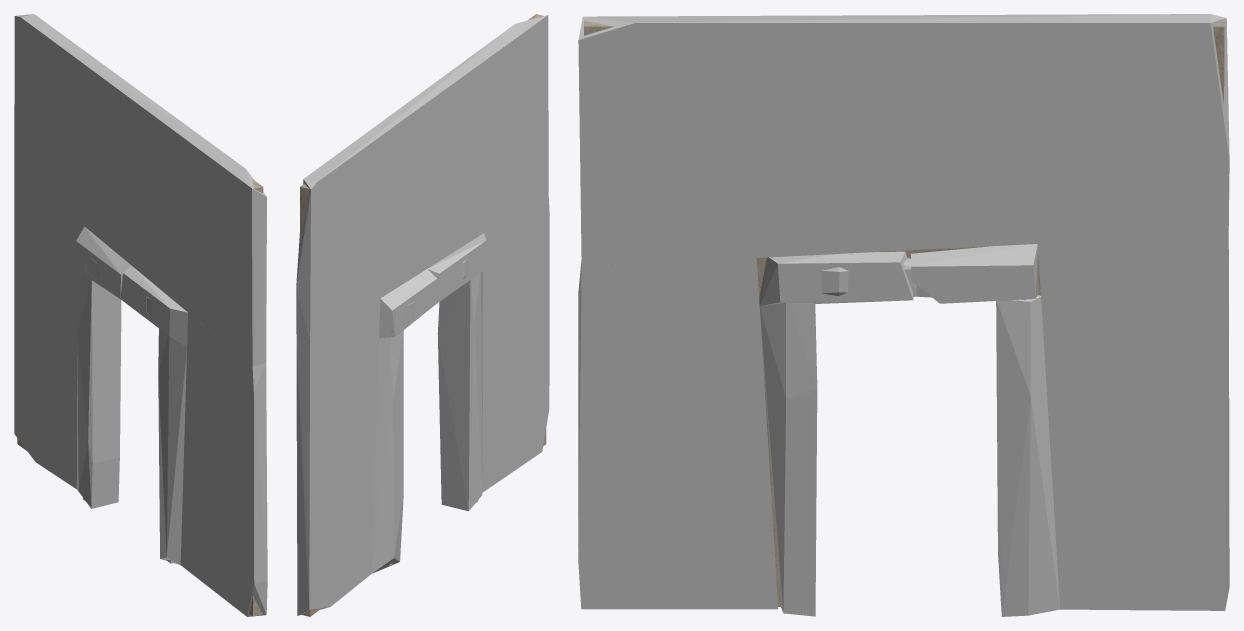
The model's file is SM_Wall_Door_02.fbx.
The picture shows the model from 3 angles, left to right: view 1: azimuth 30°, elevation 25°; view 2: azimuth 150°, elevation 25°; view 3: azimuth 270°, elevation 25°; orthographic projection. The views are drawn at different scales.
Visible parts, largest first — view 1: SM_Wall_Door_02_ConvexHulls, SM_Wall_Door_02; view 2: SM_Wall_Door_02_ConvexHulls, SM_Wall_Door_02; view 3: SM_Wall_Door_02_ConvexHulls, SM_Wall_Door_02.
Part boxes in pixels (x1,y1,x2,y2): SM_Wall_Door_02_ConvexHulls: [14, 14, 267, 616]; SM_Wall_Door_02: [17, 14, 263, 616]; SM_Wall_Door_02_ConvexHulls: [296, 15, 549, 615]; SM_Wall_Door_02: [300, 14, 546, 616]; SM_Wall_Door_02_ConvexHulls: [578, 14, 1229, 616]; SM_Wall_Door_02: [584, 20, 1224, 606].
Bounding box in the file's own units: 35.34 × 407 × 407.
